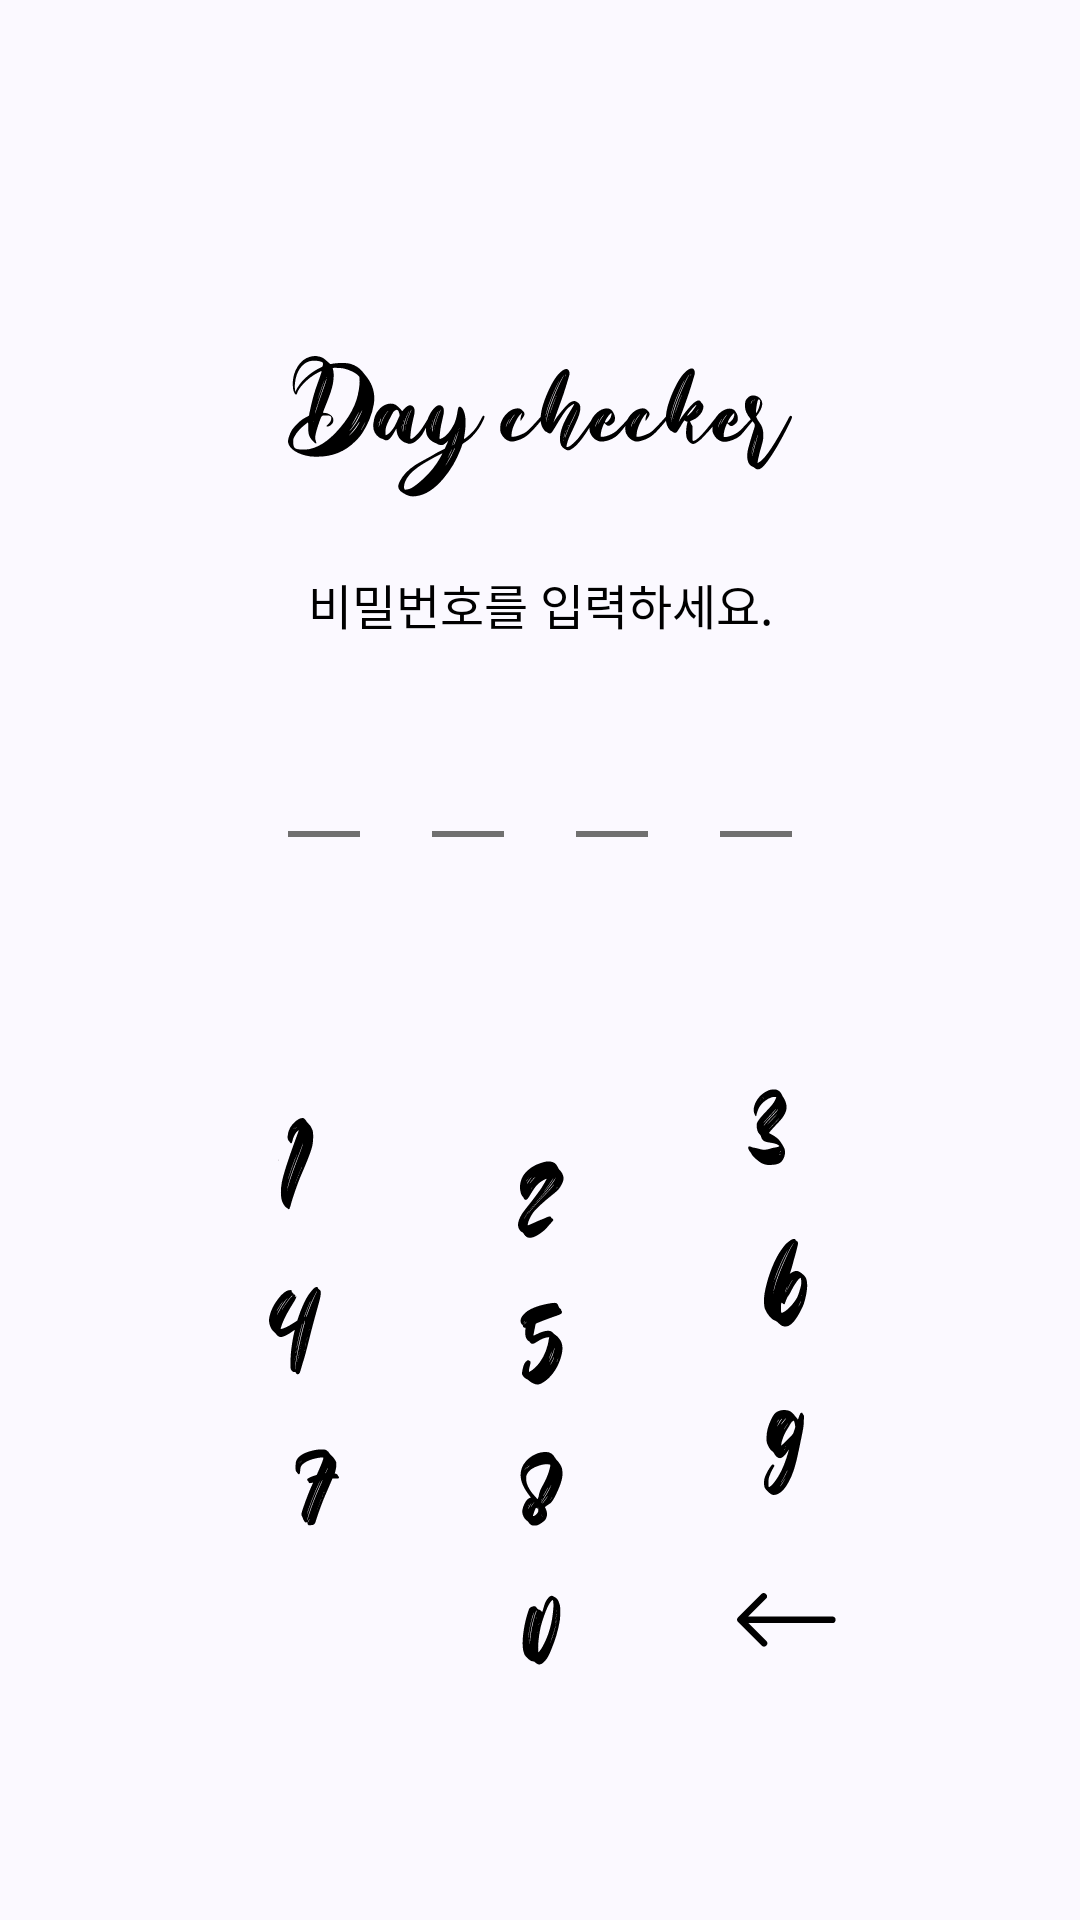

Icon click points for this 1080×1920 phone screenshot, format [x,y]:
numpad erase: [786,1620]
